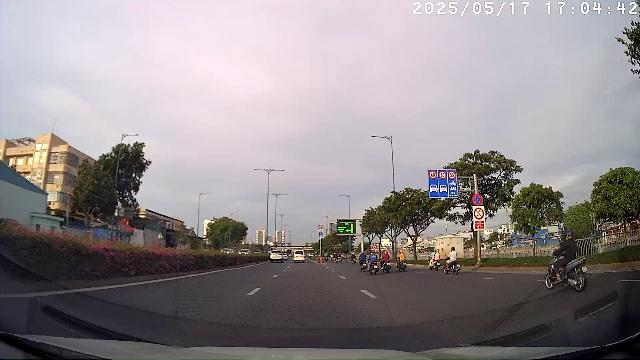127-toc-do-toi-da-50: (448, 171, 456, 180)
127-toc-do-toi-da-60: (429, 170, 437, 179), (439, 170, 446, 179)
130-cam-dung-va-do-xe: (472, 193, 483, 205)
